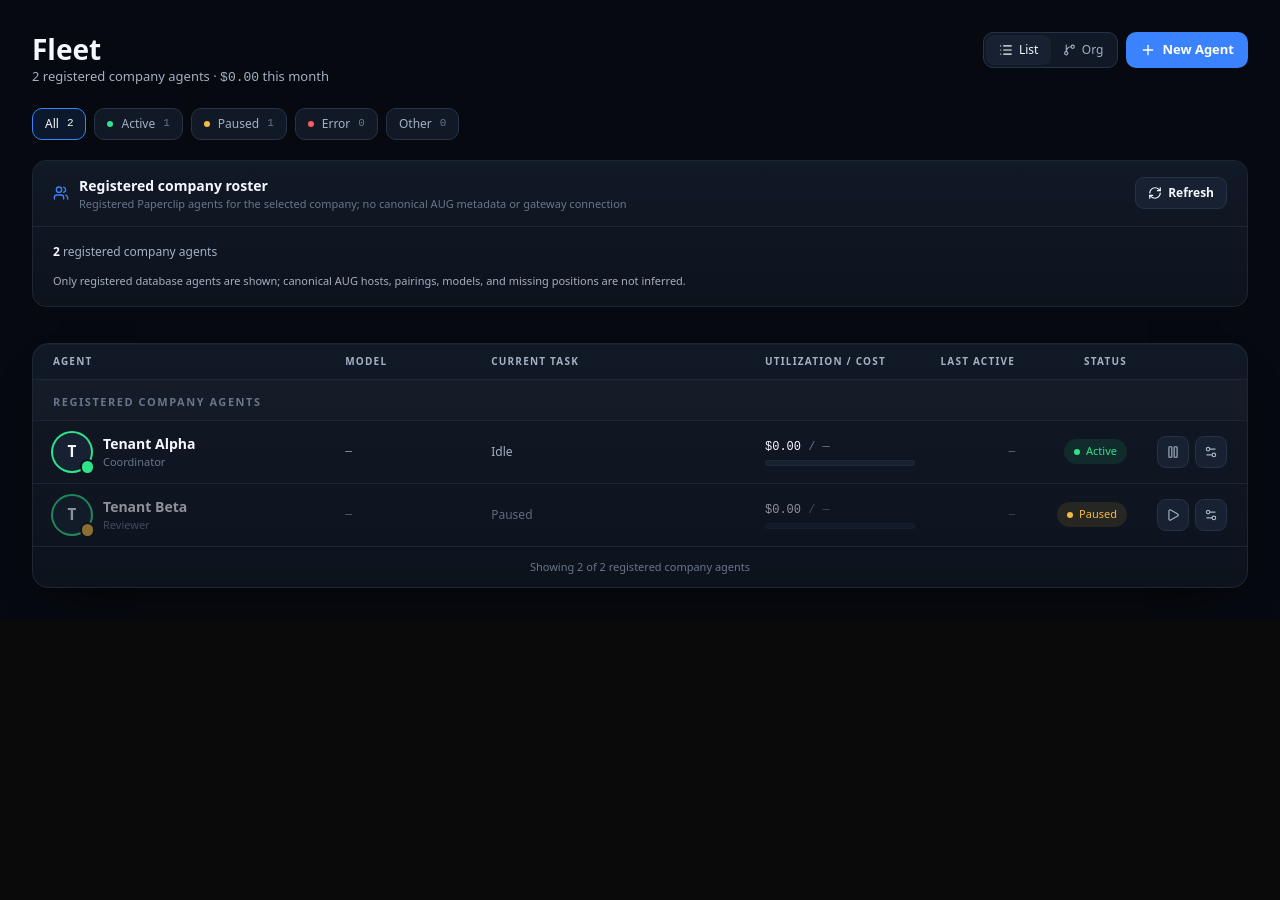
Agents › renders a successful registered-only response with null canonical metadata in List and Org
Expected: the button "T Tenant Alpha Coordinator — Idle $0.00 / — — Active" is shown, [33,420,1247,484]
Expected: the button "T Tenant Beta Reviewer — Paused $0.00 / — — Paused" is shown, [33,484,1247,546]
Click the button "Org" at (1083,50), box [1051,35,1115,65]
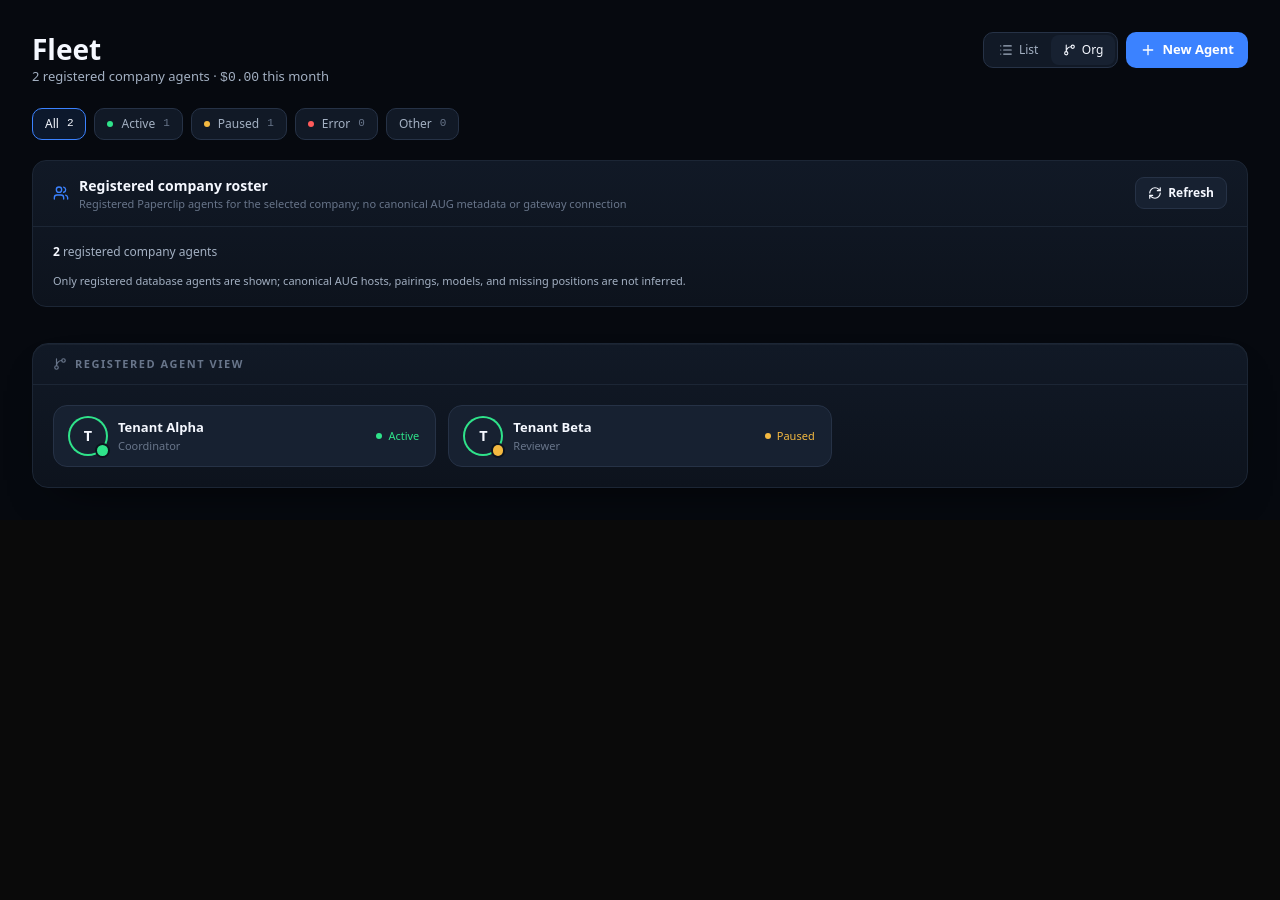
Click the button "T Tenant Alpha Coordinator Active" at (88,436), box [53,405,436,467]
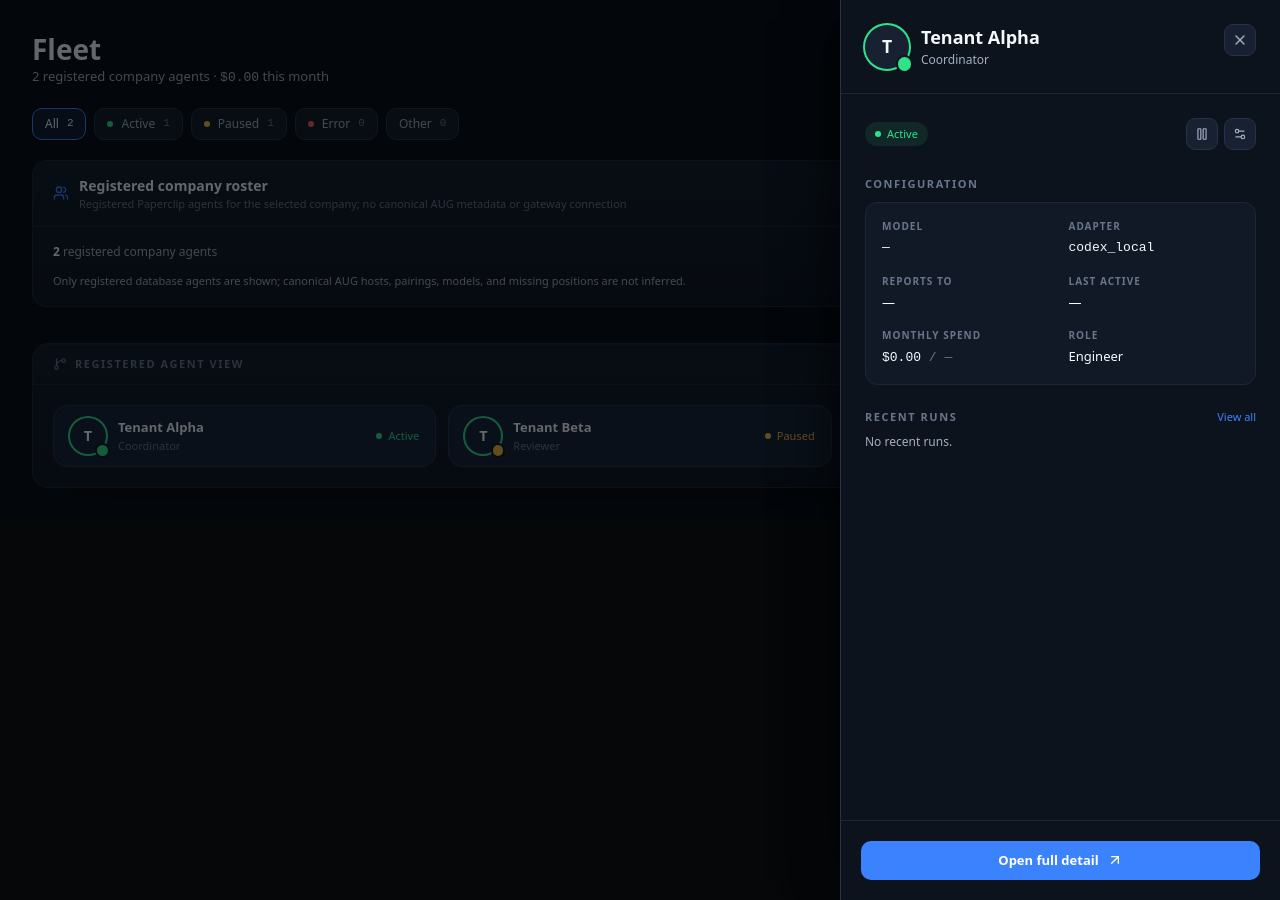
Expected: the link to "/agents/tenant-alpha" is shown, [861,840,1260,880]
